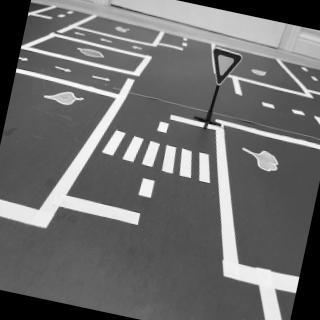road_crosswalk: (95, 123, 222, 188)
road_oneway: (91, 73, 113, 86), (53, 63, 75, 76), (18, 53, 31, 65), (99, 37, 114, 47), (73, 30, 87, 39), (131, 44, 145, 53)
sign_yield: (207, 48, 244, 90)
